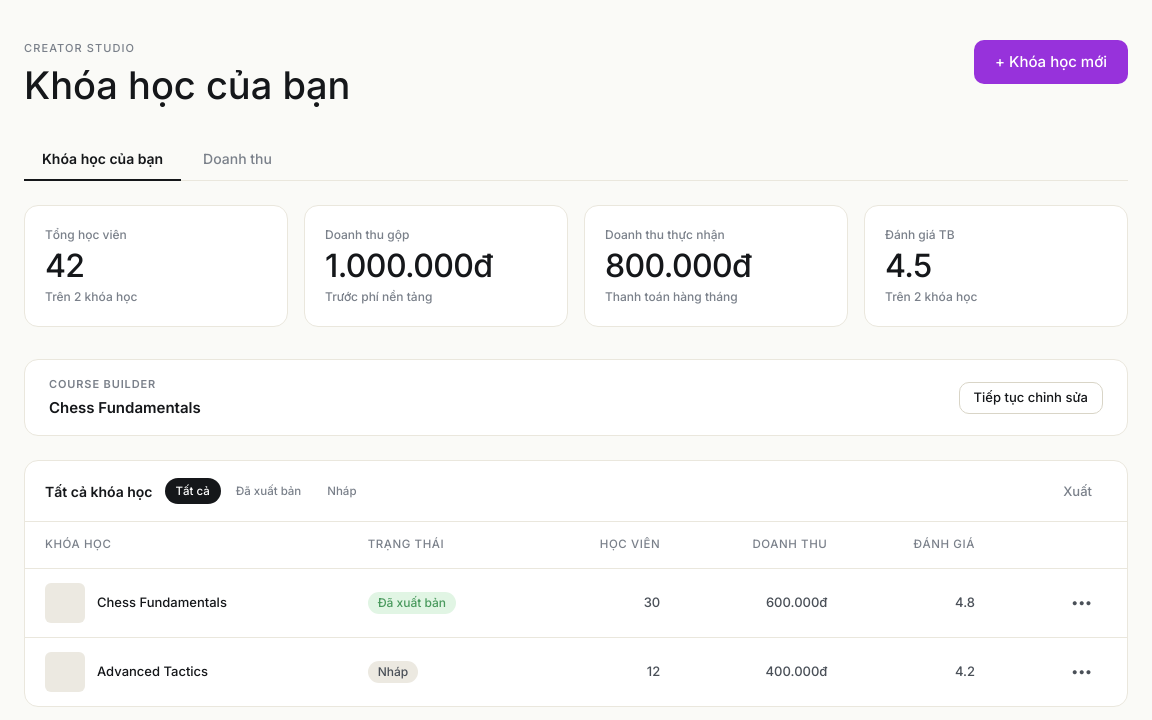
Scenario: CreatorStudioPage › shows error toast when duplication fails
Expected: the text with test id "course-title-c1" is shown, [97,593,227,612]
Click the button with test id "kebab-btn" in the row of "30" at (1082,602), box [1056,586,1107,618]
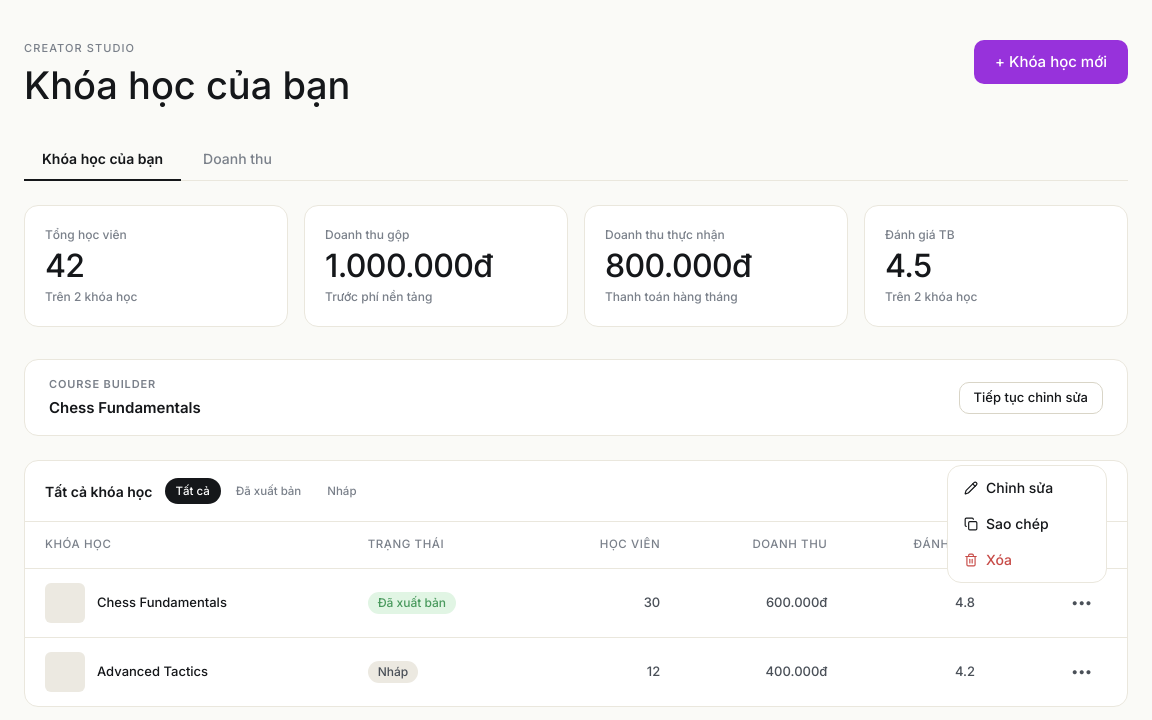
Click the menu item with test id "kebab-duplicate-c1" at (1006,524), box [964,515,1049,532]
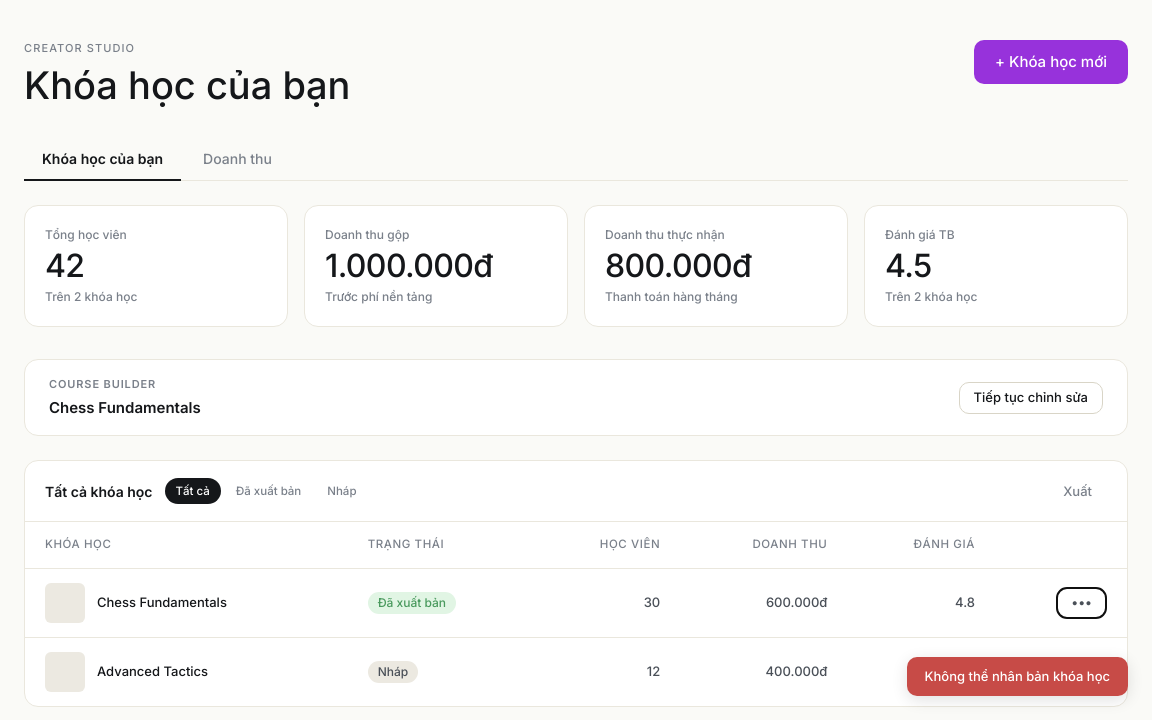
Now the text "Không thể nhân bản khóa học" is shown, box [907,656,1128,696]
